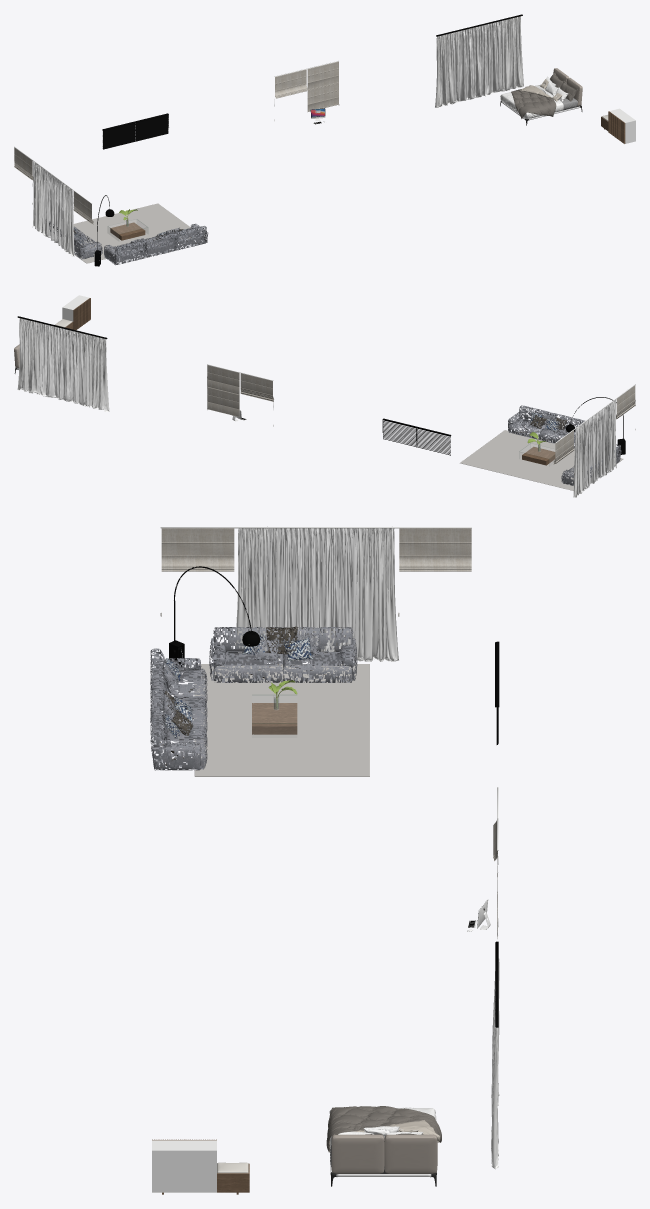
File: casa-completa-01.glb
3 views of the same model, one above another, from view 1: azimuth 30°, elevation 25°; view 2: azimuth 150°, elevation 25°; view 3: azimuth 270°, elevation 25° (orthographic). The views are drawn at different scales.
Visible parts, largest first — view 1: Curtatins, CouchSet, Zebra Curtains, Bed (×2), kitchenblind, shoeRack; view 2: Curtatins, CouchSet, Zebra Curtains, kitchenblind, shoeRack; view 3: CouchSet, Curtatins, Bed (×2), Zebra Curtains, shoeRack.
Boxes of the visible parts, bbox=[...] form: Curtatins: bbox=[32, 14, 523, 256]; CouchSet: bbox=[45, 195, 208, 266]; Zebra Curtains: bbox=[14, 61, 339, 247]; Bed (×2): bbox=[500, 68, 582, 125]; kitchenblind: bbox=[102, 113, 168, 149]; shoeRack: bbox=[601, 108, 635, 143]; Curtatins: bbox=[17, 316, 616, 497]; CouchSet: bbox=[460, 397, 625, 490]; Zebra Curtains: bbox=[207, 364, 635, 475]; kitchenblind: bbox=[382, 418, 451, 455]; shoeRack: bbox=[55, 295, 90, 330]; CouchSet: bbox=[150, 566, 369, 776]; Curtatins: bbox=[235, 526, 499, 1169]; Bed (×2): bbox=[326, 1106, 441, 1186]; Zebra Curtains: bbox=[160, 527, 498, 938]; shoeRack: bbox=[152, 1139, 249, 1194].
Size of the model in its own units: 24.23 by 3.05 by 6.74.
28 materials, 11 textured.
